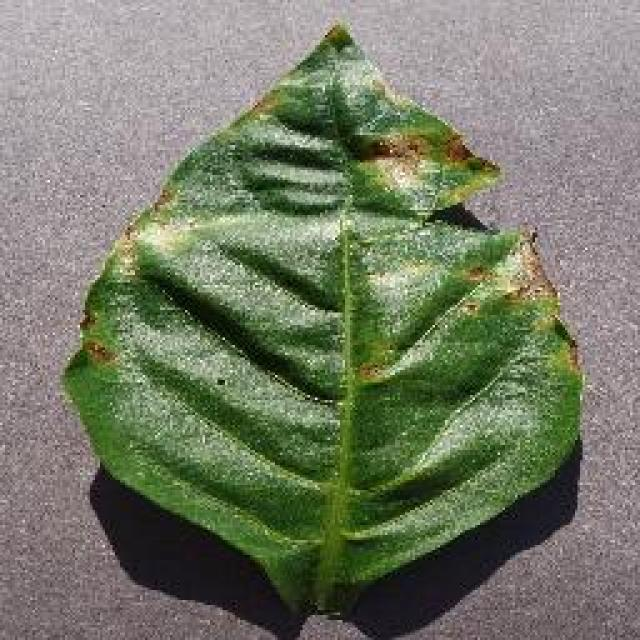Chilli_Bacterial_Spot: (58, 18, 588, 620), (352, 122, 502, 220), (357, 128, 475, 170), (72, 305, 118, 370), (320, 17, 355, 55), (77, 335, 115, 367), (440, 130, 472, 165), (360, 135, 400, 163), (353, 357, 385, 385), (75, 308, 97, 332)
